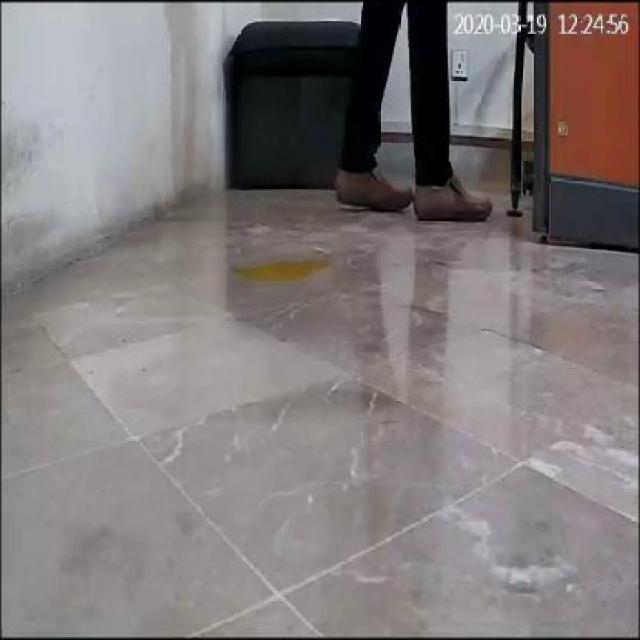spill: (233, 252, 332, 290)
